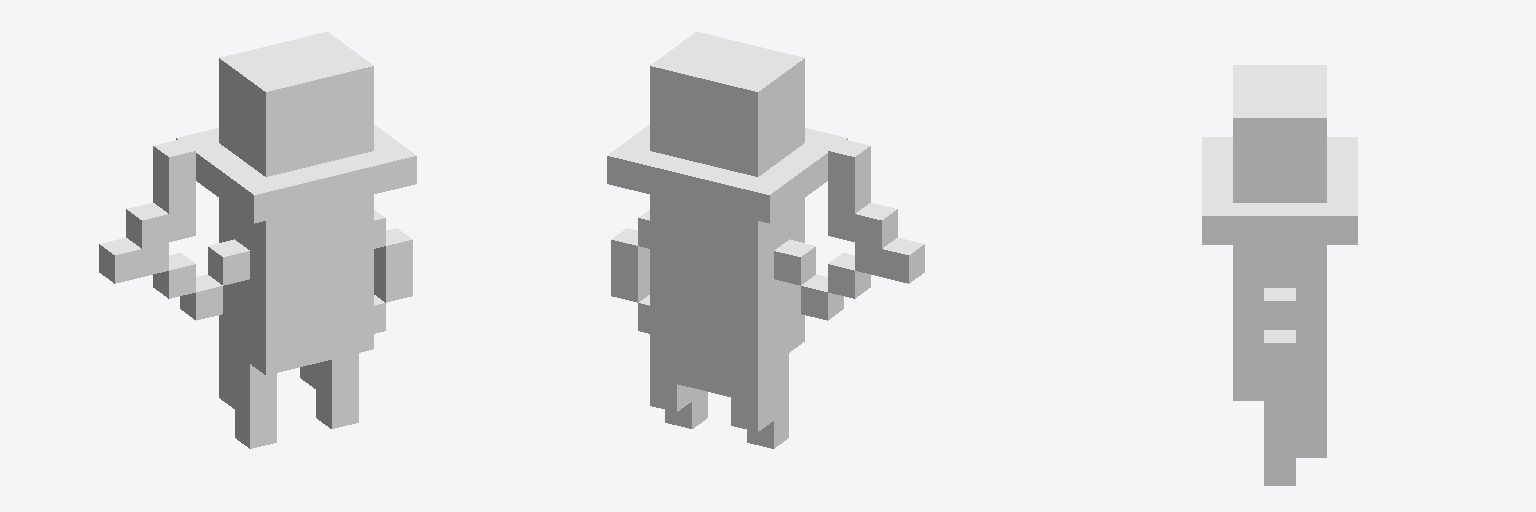
File: gentleman.obj
3 views of the same model, side by side, from view 1: azimuth 30°, elevation 25°; view 2: azimuth 150°, elevation 25°; view 3: azimuth 270°, elevation 25° (orthographic).
Visible parts, largest first — view 1: object 1; view 2: object 1; view 3: object 1.
Boxes of the visible parts, x1,y1,x2,y2 form: object 1: [99, 32, 416, 448]; object 1: [607, 32, 924, 448]; object 1: [1202, 65, 1357, 485].
Bounding box in the file's own units: 1.1 × 1.3 × 0.5.